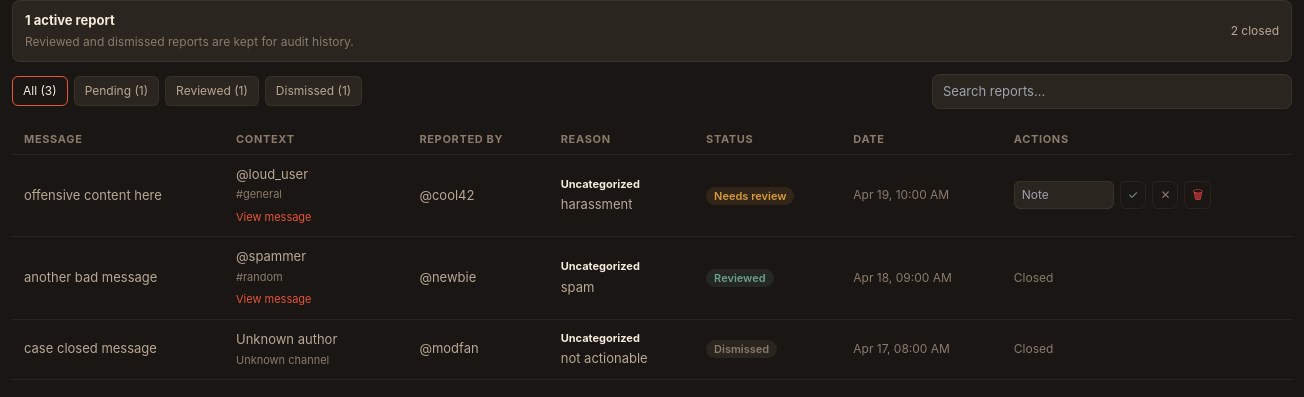
Test: ReportsTable — filtering › searches by reporter username and reason
Type "cool42" into the field with class "report-search". click: (1112, 91)
box: 932,74 -> 1292,109
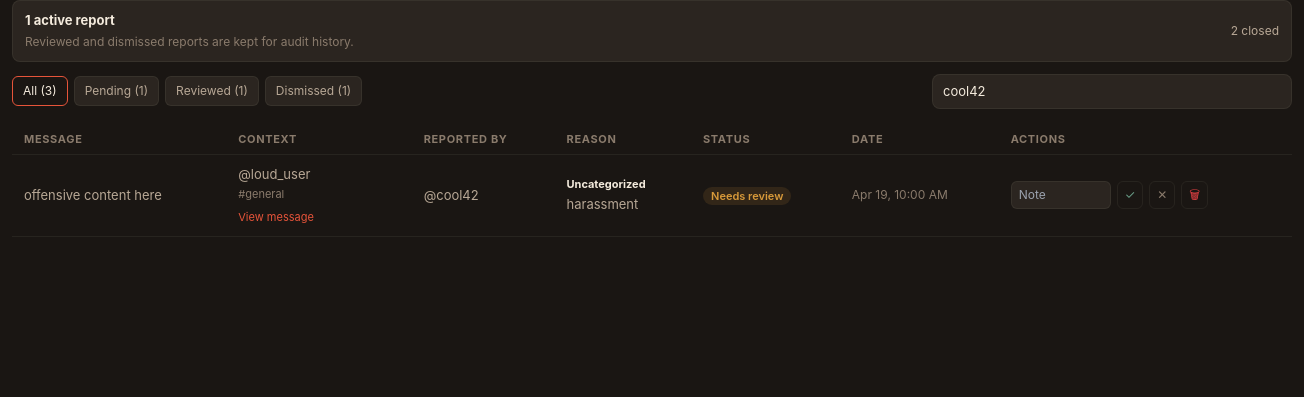
Expected: the text "@cool42" is shown, 412,154 -> 554,236
Result: the number of rows with class "report-row" is 1 at 12,154 -> 1292,236
Replace the text in the field with class "report-search" with "spam". click: (1112, 91)
box: 932,74 -> 1292,109
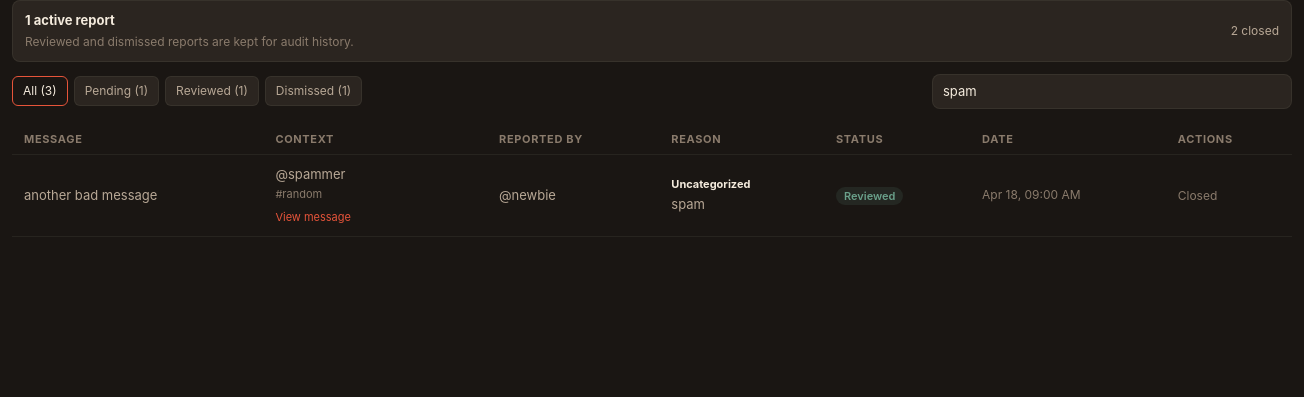
Result: the number of rows with class "report-row" is 1 at 12,154 -> 1292,236
Result: the text "spam" is shown at 671,196 -> 705,212
